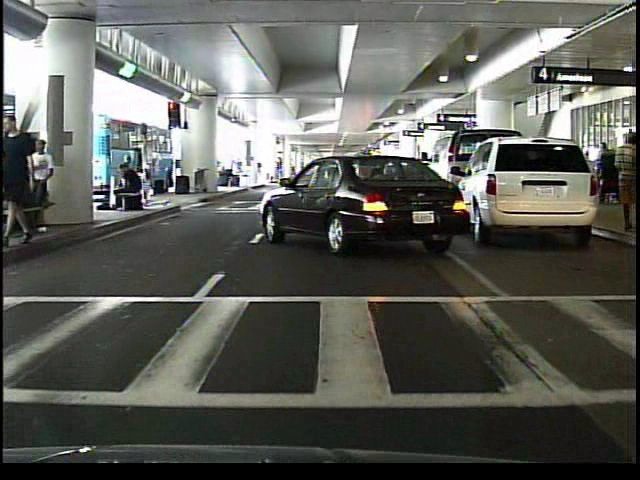person: (609, 131, 637, 232), (108, 161, 143, 214)
